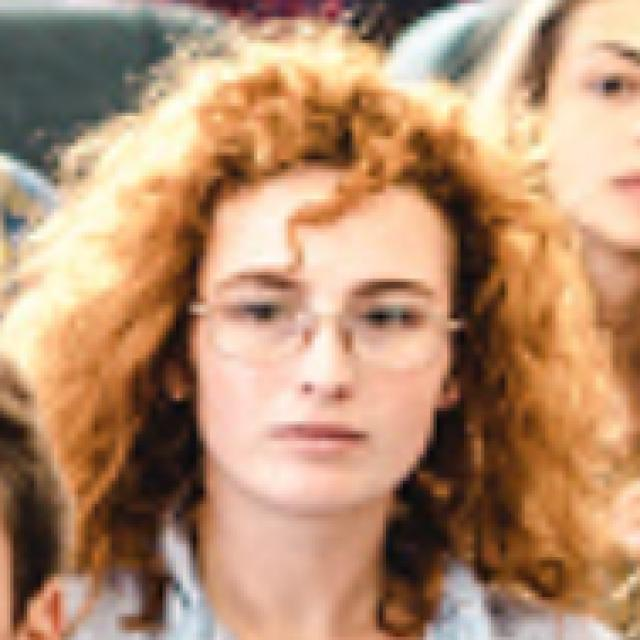Looking forward: (178, 160, 452, 514)
